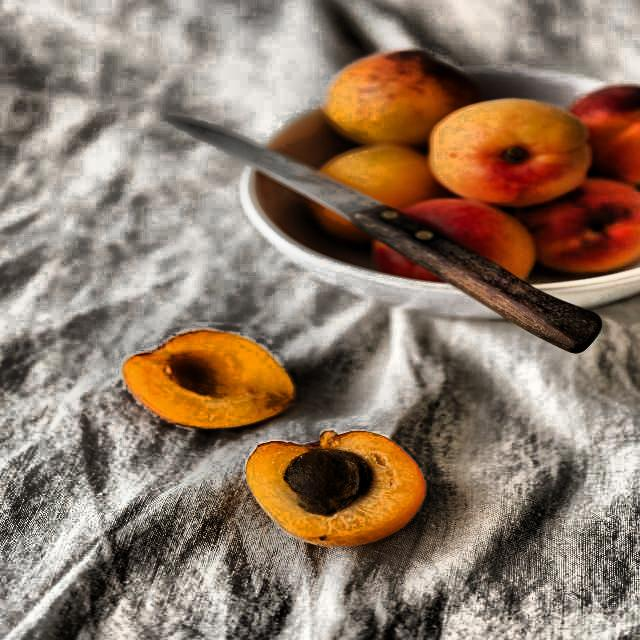knife: (164, 108, 606, 370)
